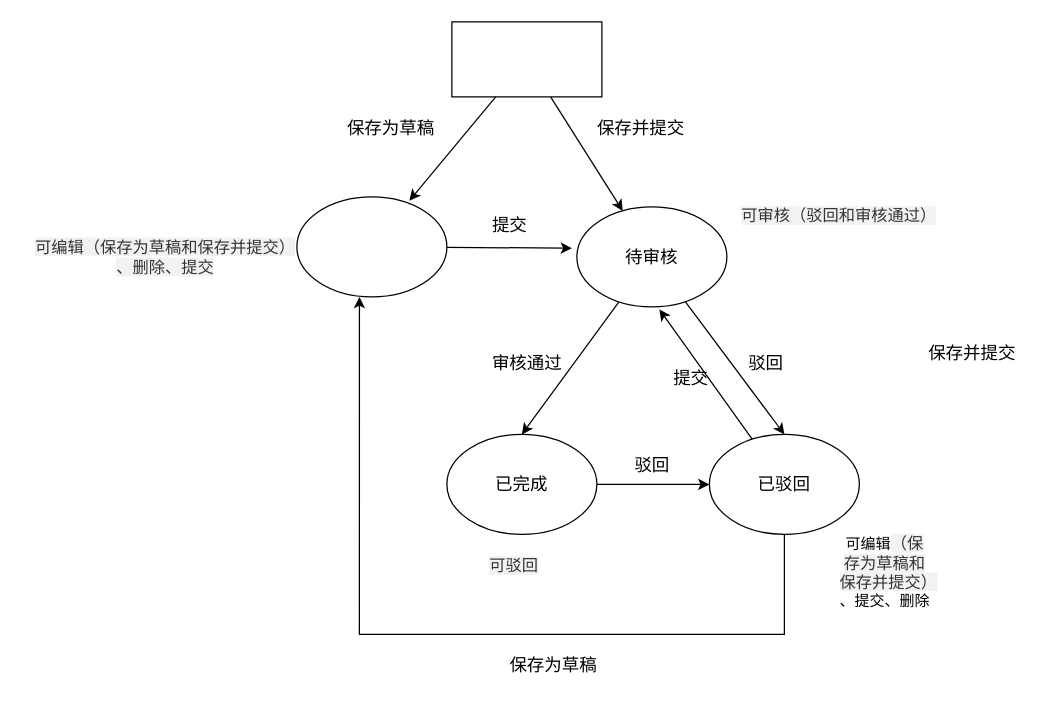
This 1049x706 diagram has some shape labels left out. The centre of each missing label's shape, as x and y in pixels:
新增处罚: the point at 526,59
草稿: the point at 371,246
